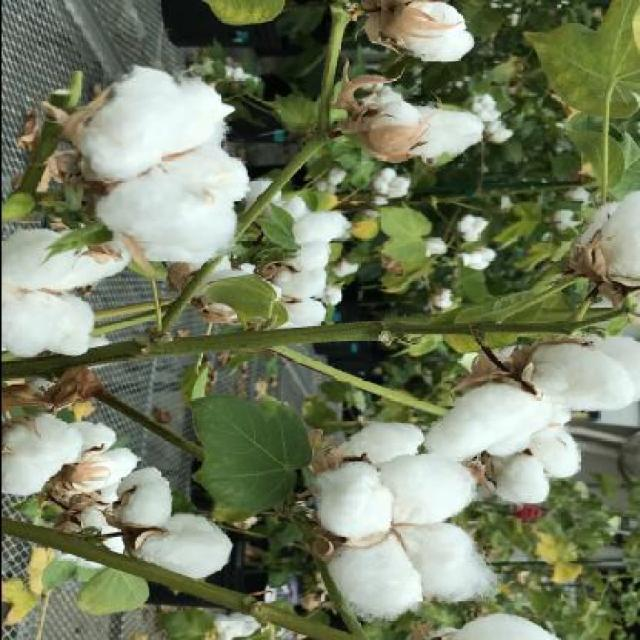cotton_ready: (65, 61, 261, 270), (1, 198, 108, 496), (431, 327, 604, 498), (87, 428, 248, 606), (334, 1, 492, 178), (294, 458, 478, 602), (192, 190, 371, 338)
